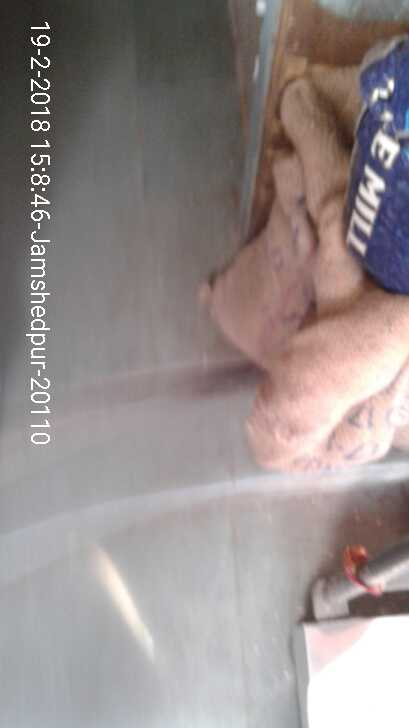reject: (151, 216, 233, 360)
